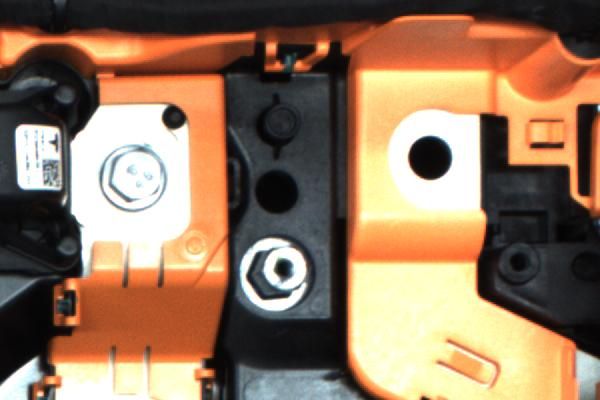nut_b: (93, 140, 176, 218)
